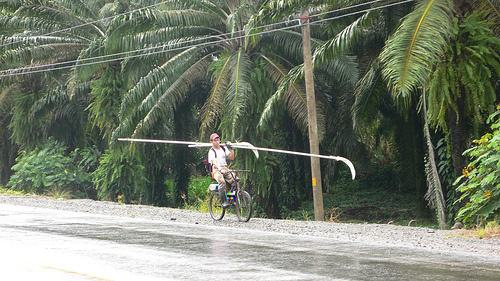car: (209, 169, 253, 222)
person: (208, 134, 238, 208)
